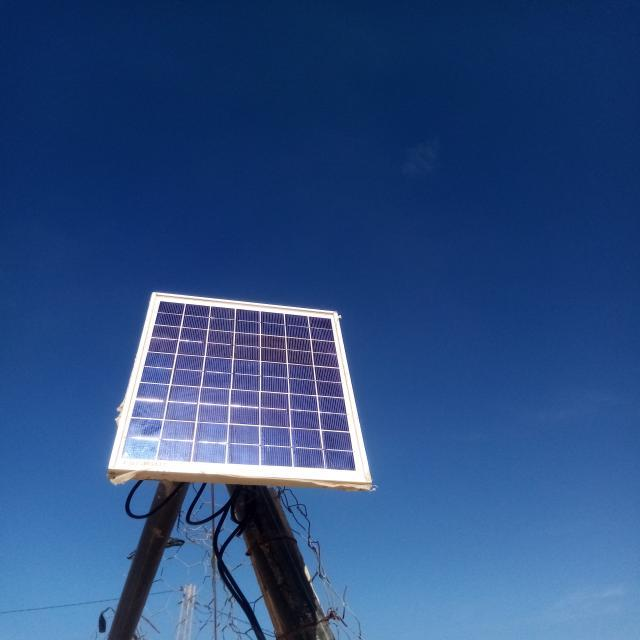no faulty: (109, 292, 371, 483)
